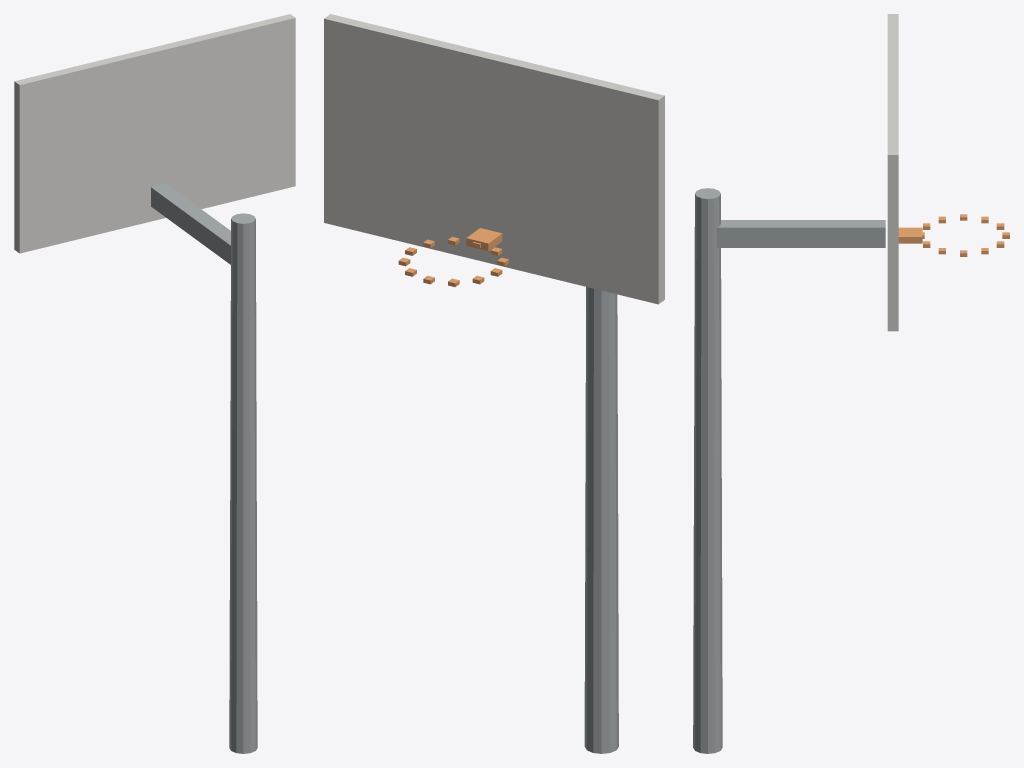
The model's file is basketball-hoop.glb.
The picture shows the model from 3 angles, left to right: view 1: azimuth 30°, elevation 25°; view 2: azimuth 150°, elevation 25°; view 3: azimuth 270°, elevation 25°; orthographic projection. The views are drawn at different scales.
Visible parts, largest first — view 1: basketball-hoop; view 2: basketball-hoop; view 3: basketball-hoop.
Boxes of the visible parts, x1,y1,x2,y2 form: basketball-hoop: [14, 14, 295, 753]; basketball-hoop: [324, 14, 664, 753]; basketball-hoop: [693, 14, 1009, 753].
Bounding box in the file's own units: 0.4557 × 1 × 0.4329.
